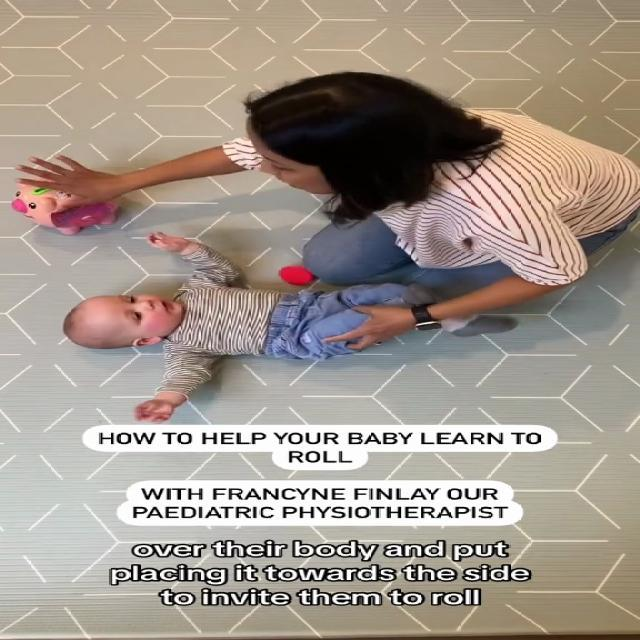baby: (61, 228, 526, 425)
